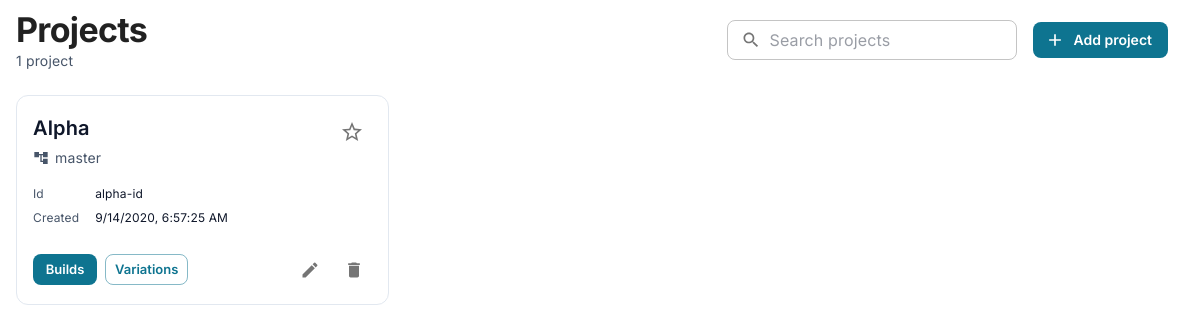
ProjectListPage › says so when nothing matches
Expected: the heading "Alpha" is shown, [33,116,90,140]
Type "zzz" into the search field at (894, 40), box [770,20,1018,60]
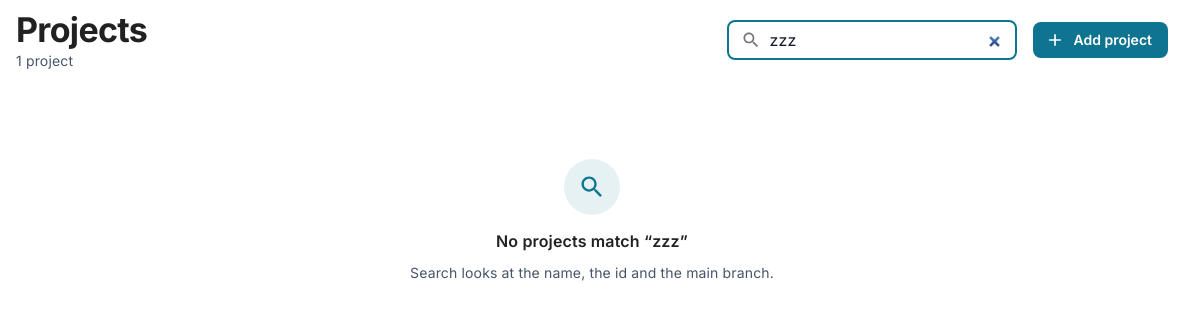
Result: the heading "No projects match “zzz”" is shown at [496,227,688,255]
